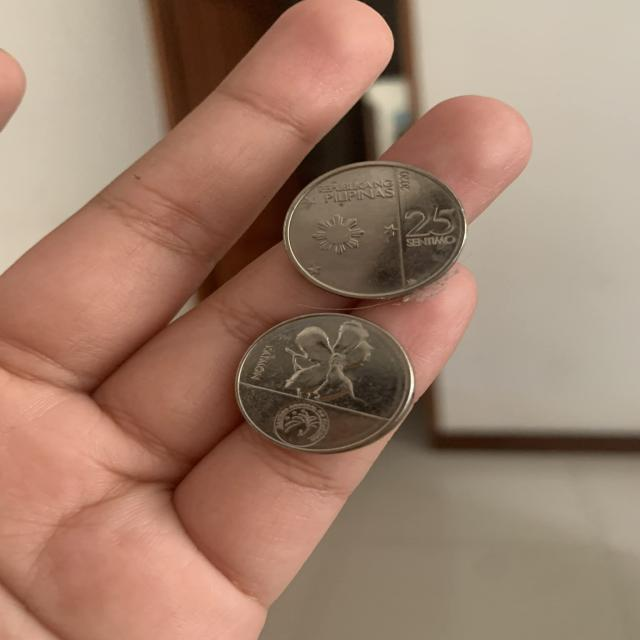25 cents: (277, 158, 476, 300), (227, 310, 417, 458)
